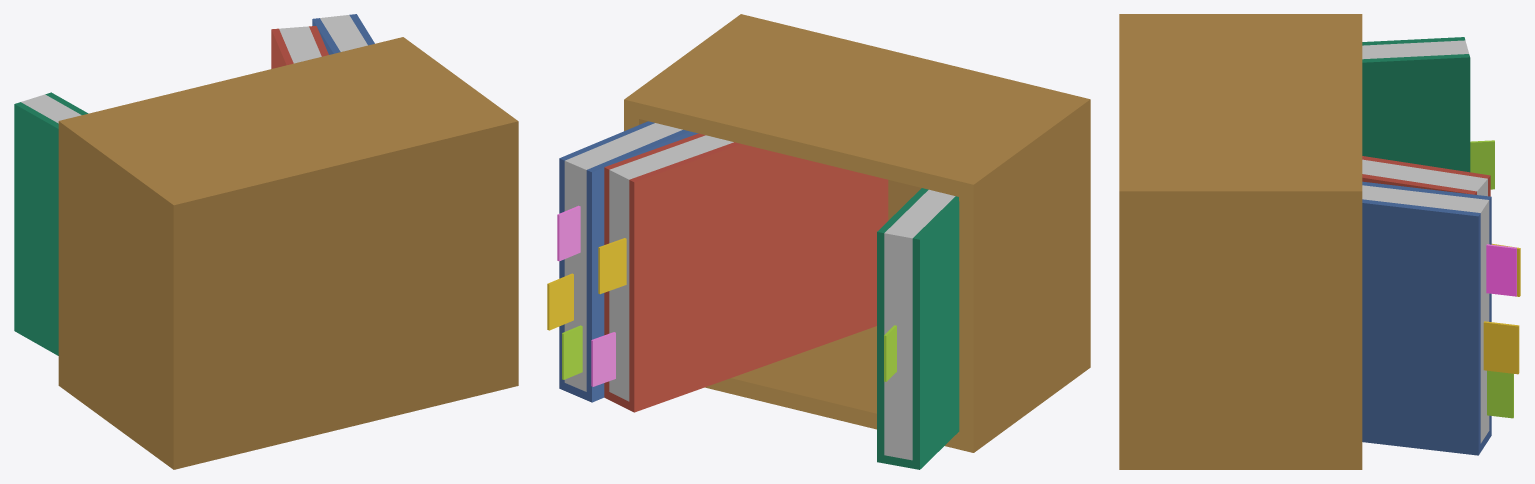
File: BookBox.glb
The picture shows the model from 3 angles, left to right: view 1: azimuth 30°, elevation 25°; view 2: azimuth 150°, elevation 25°; view 3: azimuth 270°, elevation 25°; orthographic projection. The views are drawn at different scales.
Parts seen in each view (by area): view 1: SO_Bookbox_01; view 2: SO_Bookbox_01; view 3: SO_Bookbox_01.
Boxes of the visible parts, bbox=[...] form: SO_Bookbox_01: bbox=[14, 14, 518, 469]; SO_Bookbox_01: bbox=[547, 14, 1090, 469]; SO_Bookbox_01: bbox=[1119, 14, 1520, 469].
Size of the model in its own units: 1.02 by 0.7286 by 0.95.
1 material, 1 textured.
